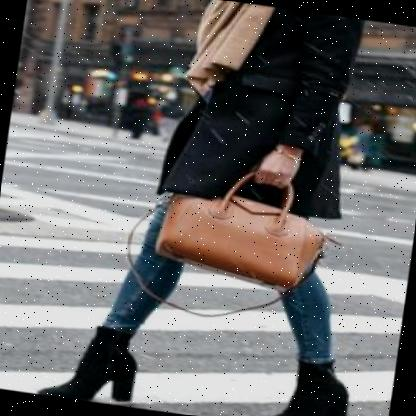bag: (102, 145, 348, 334)
